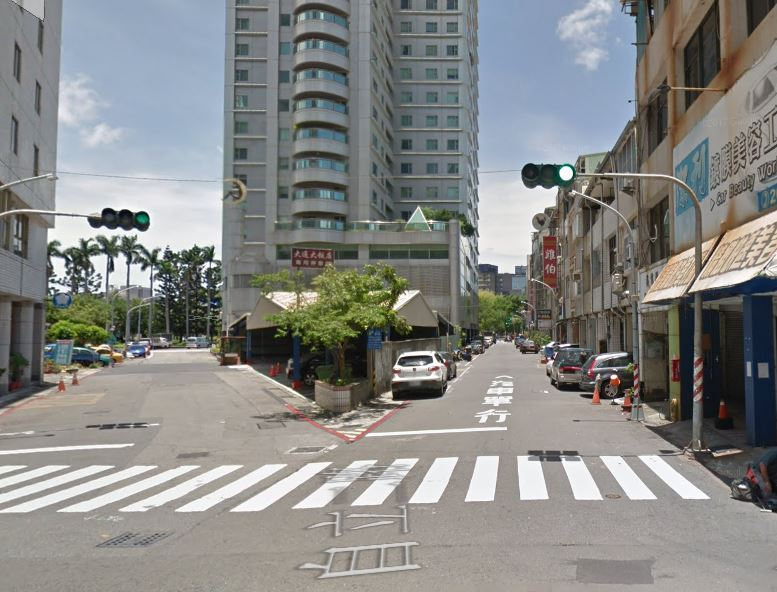Traffic_light_green: (518, 161, 579, 190), (101, 205, 151, 231)
car: (391, 350, 451, 399)
